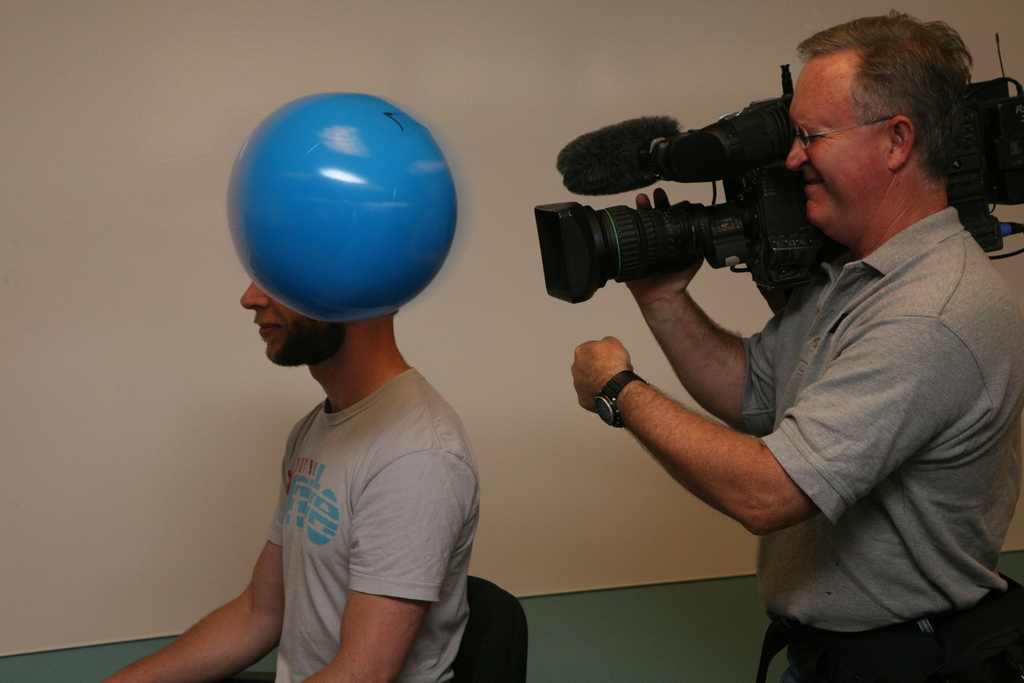Person: (570, 7, 1024, 682), (100, 282, 479, 682)
